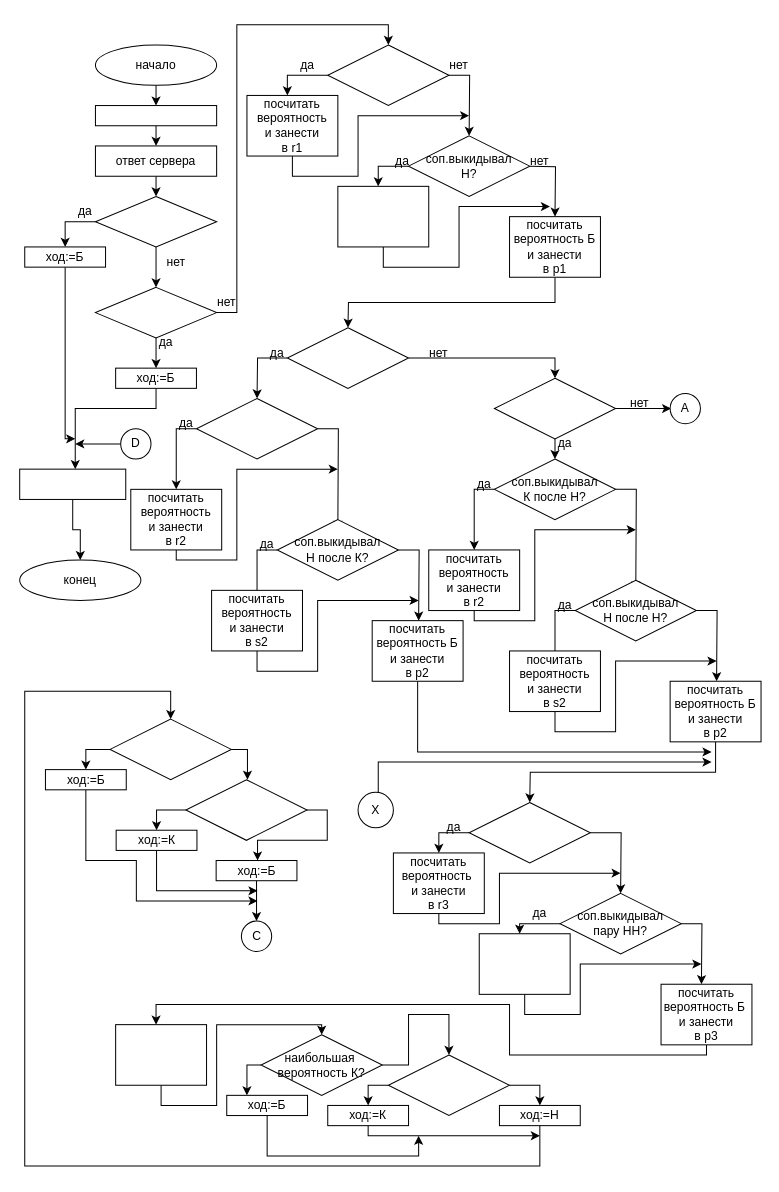
This 779x1192 diagram has some shape labels left out. The box of each missing label's shape, as (x1, y1, x2, y2) in pixels:
1 ход?: (94, 195, 217, 247)
вероятность Н = Б: (185, 779, 307, 840)
вероятность Н = К: (109, 718, 231, 780)
На сервер: (19, 468, 126, 499)
наибольшая вероятность Н?: (387, 1054, 510, 1116)
последний ход - К?: (286, 327, 409, 388)
последний ход - Н?: (493, 377, 616, 439)
посчитать вероятность для каждой фигуры: (115, 1024, 207, 1085)
посчитать вероятность и занести в s1: (337, 185, 429, 247)
посчитать вероятность и занести в s3: (478, 933, 570, 994)
соп.выкидывал К после К?: (195, 397, 318, 459)
соп.выкидывал К?: (327, 44, 449, 106)
соп.выкидывал пару КК?: (468, 801, 590, 863)
уст.: (94, 105, 217, 126)
Я выиграл?: (94, 286, 217, 338)
